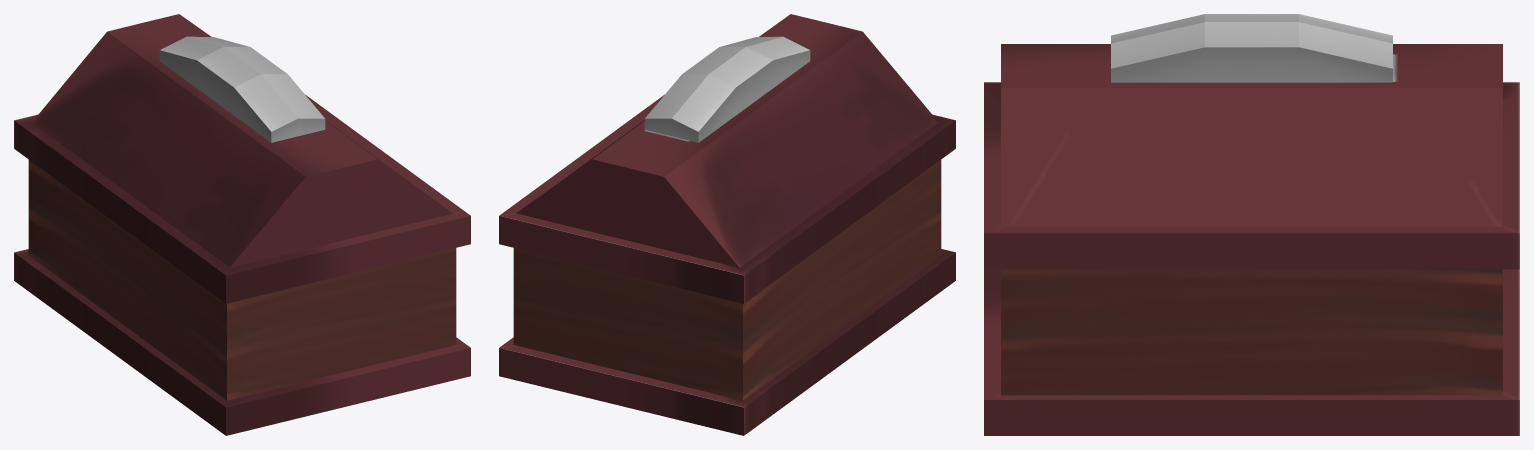
Rendered from Toolbox.obj.
The picture shows the model from 3 angles, left to right: view 1: azimuth 30°, elevation 25°; view 2: azimuth 150°, elevation 25°; view 3: azimuth 270°, elevation 25°; orthographic projection. The views are drawn at different scales.
Visible parts, largest first — view 1: Cube; view 2: Cube; view 3: Cube.
Part boxes in pixels (box(x1,y1,x2,y2)): Cube: box(14, 14, 470, 435); Cube: box(499, 14, 955, 435); Cube: box(984, 14, 1519, 435).
Size of the model in its own units: 0.6835 by 0.7147 by 1.03.
Materials: 1 (1 with a texture image).
